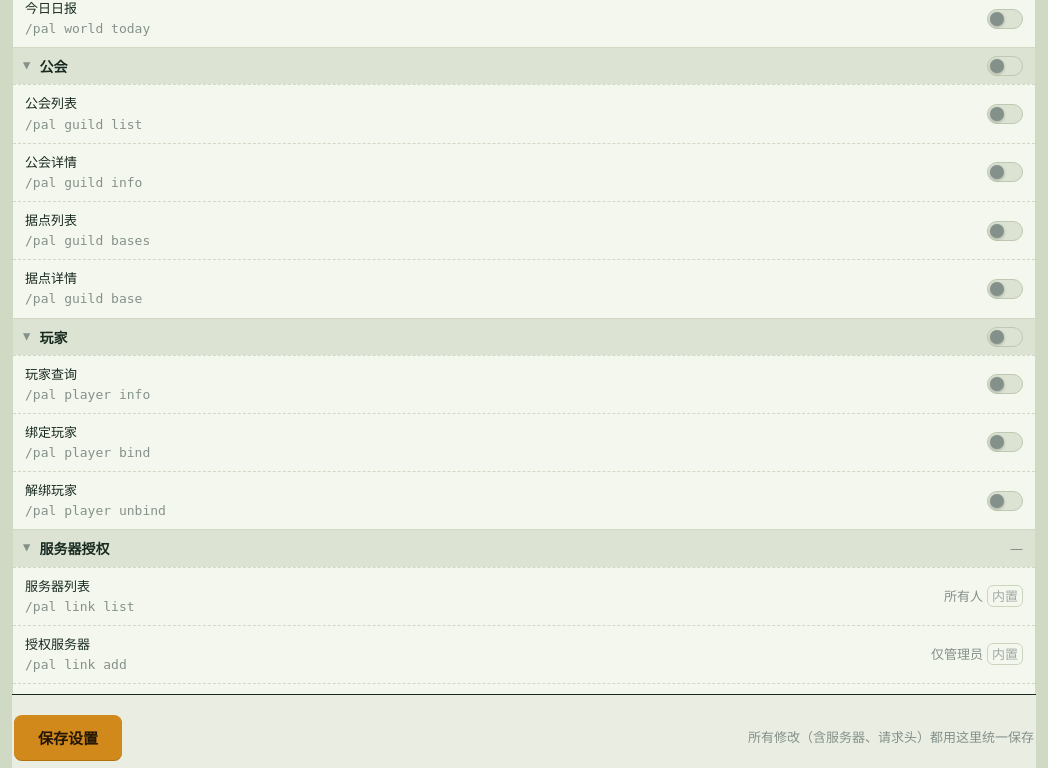
Scenario: SettingsPanel › 权限章：点击命令树三态段 → 覆盖命令权限并置 dirty，collectBody 产出该行
(page scrolled)
Click the switch named "玩家查询 仅管理员": click(1005, 384) [987,374,1023,394]
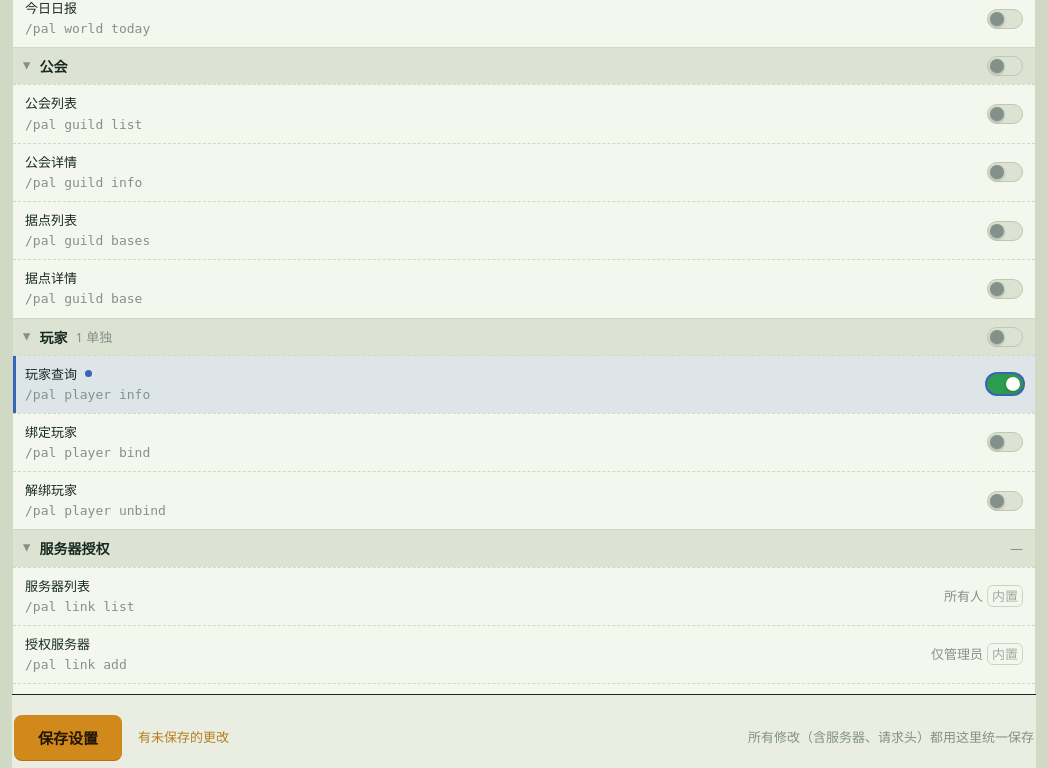
Result: the text "有未保存的更改" is shown at [138,727,229,748]
